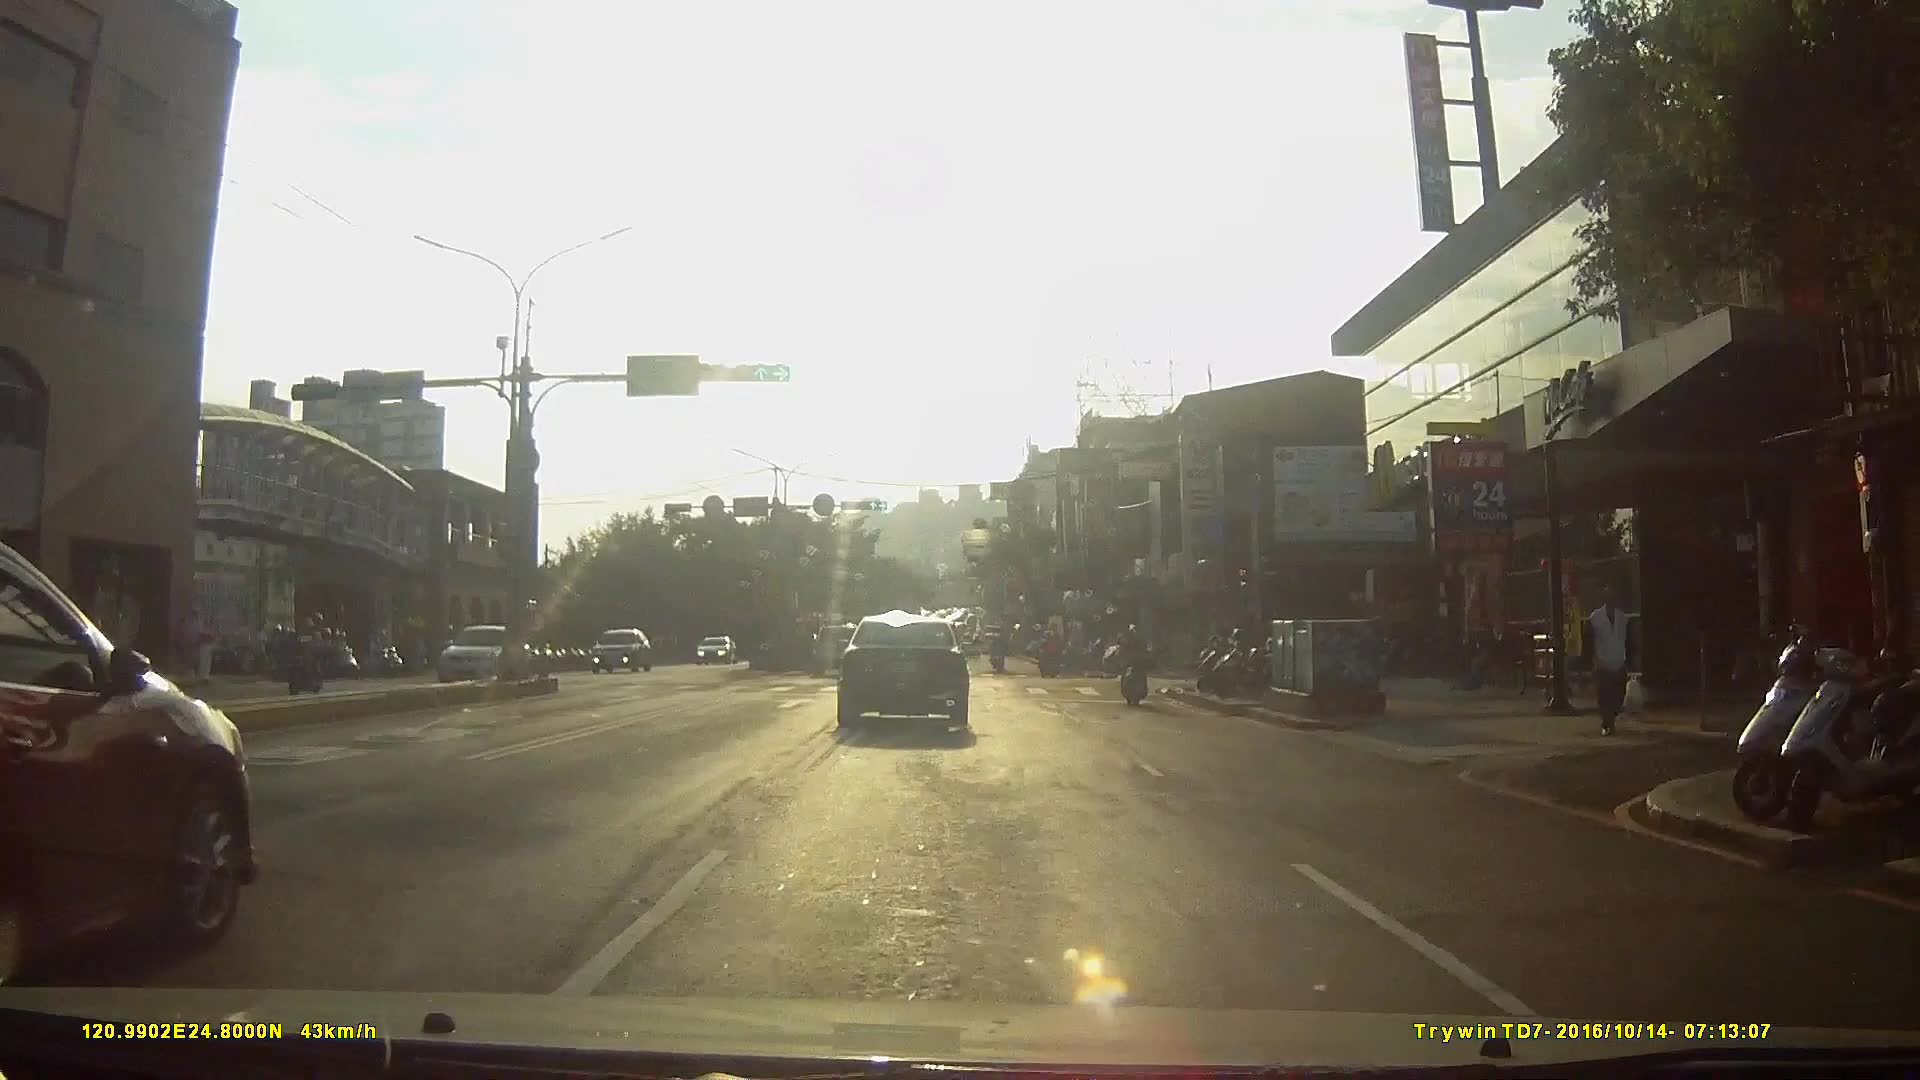pedestrian: (1580, 582, 1639, 735)
rider: (280, 613, 327, 700), (1117, 619, 1152, 707), (316, 628, 361, 683), (1038, 630, 1065, 679), (988, 634, 1008, 675)
vehicle: (1, 544, 267, 996), (834, 609, 987, 735), (434, 620, 540, 693), (589, 626, 654, 676), (813, 623, 872, 678), (693, 632, 740, 665)
